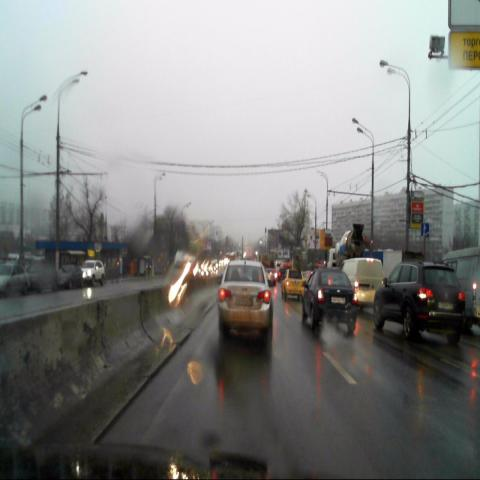6_6: (421, 222, 429, 236)
